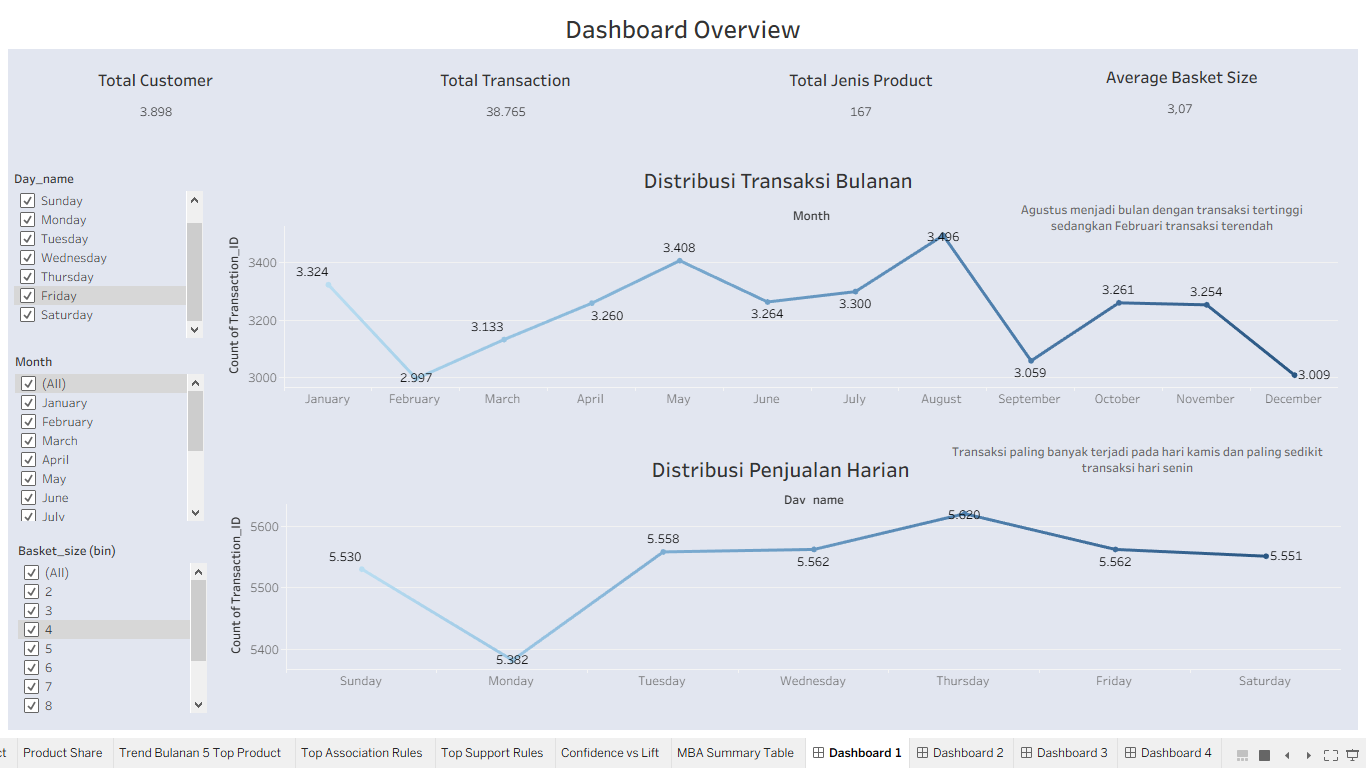

What the dashboard file says about the page in this screenshot:
{"tool":"tableau","page":{"name":"Dashboard 1","canvas":[1000,1000],"units":"permille","ordinal":0},"visuals":[{"type":"title","box":[6.9,13.5,986.1,69.2]},{"type":"worksheet","title":"KPI Average Basket Size","mark":"Automatic","box":[783.6,84.5,191.3,113.2]},{"type":"worksheet","title":"KPI Total Customer","mark":"Automatic","box":[37.2,87.8,183.6,108.1]},{"type":"worksheet","title":"KPI Total Transaction","mark":"Automatic","box":[285.7,87.8,201.7,104.7]},{"type":"worksheet","title":"KPI Total Product","mark":"Automatic","box":[547.2,87.8,197.4,104.7]},{"type":"worksheet","title":"Distribusi Transaksi Bulanan","mark":"Line","rows":["Transaction_ID"],"cols":["Month"],"box":[159.3,219.6,819.9,332.8]},{"type":"filter","title":"Distribusi Transaksi Bulanan","param":"[federated.1uy36qi0xf6n081d4k1zh0xski21].[none:Day_name:nk]","box":[10.4,229.7,138.5,228]},{"type":"text","box":[722.9,266.9,254.6,57.4]},{"type":"filter","title":"Distribusi Transaksi Bulanan","param":"[federated.1uy36qi0xf6n081d4k1zh0xski21].[none:Month:nk]","box":[11.3,478,138.5,228]},{"type":"text","box":[693.5,594.6,278.8,57.4]},{"type":"worksheet","title":"Distribusi Penjualan Harian","mark":"Line","rows":["Transaction_ID"],"cols":["Day_name"],"box":[161,611.5,820.8,332.8]},{"type":"filter","title":"Distribusi Transaksi Bulanan","param":"[federated.1uy36qi0xf6n081d4k1zh0xski21].[none:Basket_size (bin):ok]","box":[13,734.8,138.5,231.4]}]}

Visuals, with their boxes on the dashboard's canvas, which has no fixed pixel size, in thousandths of its width and height (x1, y1, x2, y2). These are canvas units, not pixel positions in the 1366x768 screenshot, which may show the page scaled, cropped or inside an application window:
title: pyautogui.locateOnScreen(7, 14, 993, 83)
"KPI Average Basket Size" worksheet: pyautogui.locateOnScreen(784, 84, 975, 198)
"KPI Total Customer" worksheet: pyautogui.locateOnScreen(37, 88, 221, 196)
"KPI Total Transaction" worksheet: pyautogui.locateOnScreen(286, 88, 487, 192)
"KPI Total Product" worksheet: pyautogui.locateOnScreen(547, 88, 745, 192)
"Distribusi Transaksi Bulanan" worksheet (Line marks): pyautogui.locateOnScreen(159, 220, 979, 552)
"Distribusi Transaksi Bulanan" filter: pyautogui.locateOnScreen(10, 230, 149, 458)
text: pyautogui.locateOnScreen(723, 267, 978, 324)
"Distribusi Transaksi Bulanan" filter: pyautogui.locateOnScreen(11, 478, 150, 706)
text: pyautogui.locateOnScreen(694, 595, 972, 652)
"Distribusi Penjualan Harian" worksheet (Line marks): pyautogui.locateOnScreen(161, 612, 982, 944)
"Distribusi Transaksi Bulanan" filter: pyautogui.locateOnScreen(13, 735, 152, 966)
